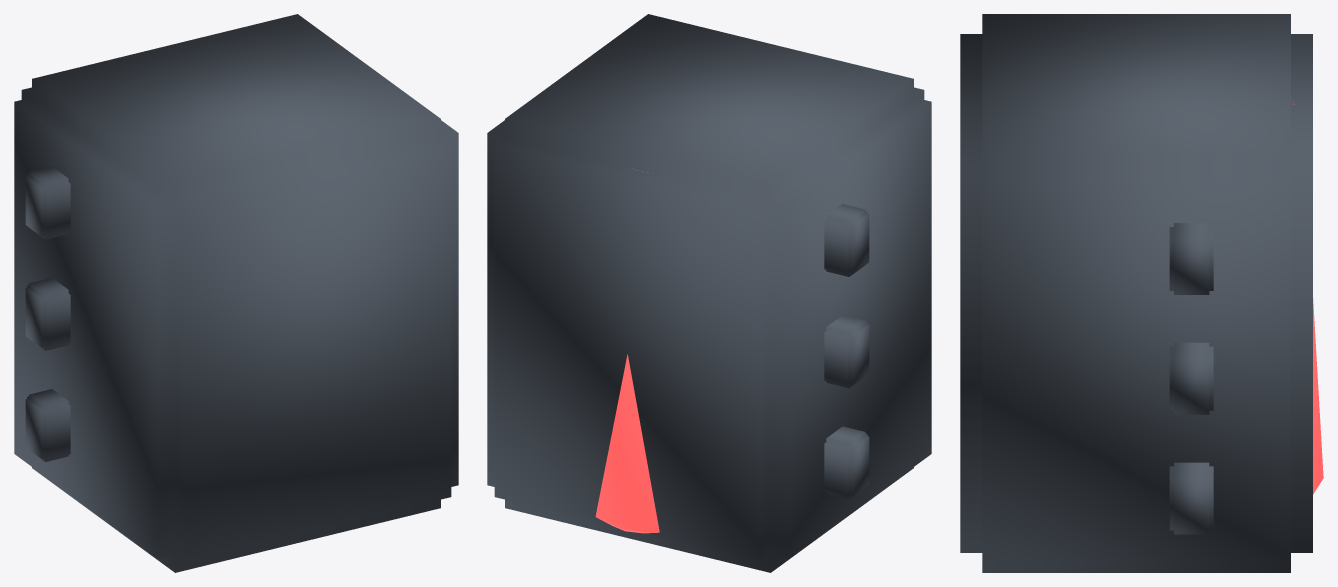
The model's file is boss_weakspot.glb.
3 views of the same model, side by side, from view 1: azimuth 30°, elevation 25°; view 2: azimuth 150°, elevation 25°; view 3: azimuth 270°, elevation 25° (orthographic). The views are drawn at different scales.
Parts seen in each view (by area): view 1: boss_weakspot; view 2: boss_weakspot; view 3: boss_weakspot.
Boxes of the visible parts, x1,y1,x2,y2 form: boss_weakspot: [14, 14, 458, 572]; boss_weakspot: [487, 14, 931, 572]; boss_weakspot: [960, 14, 1323, 572].
Size of the model in its own units: 0.4 by 0.42 by 0.3297.
